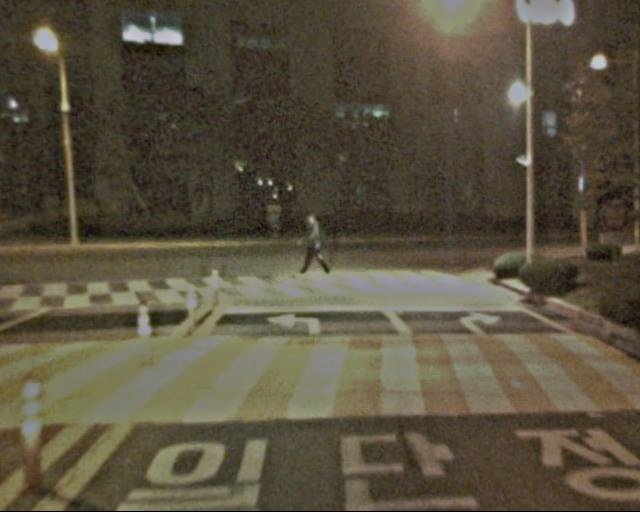person: (301, 214, 330, 284)
